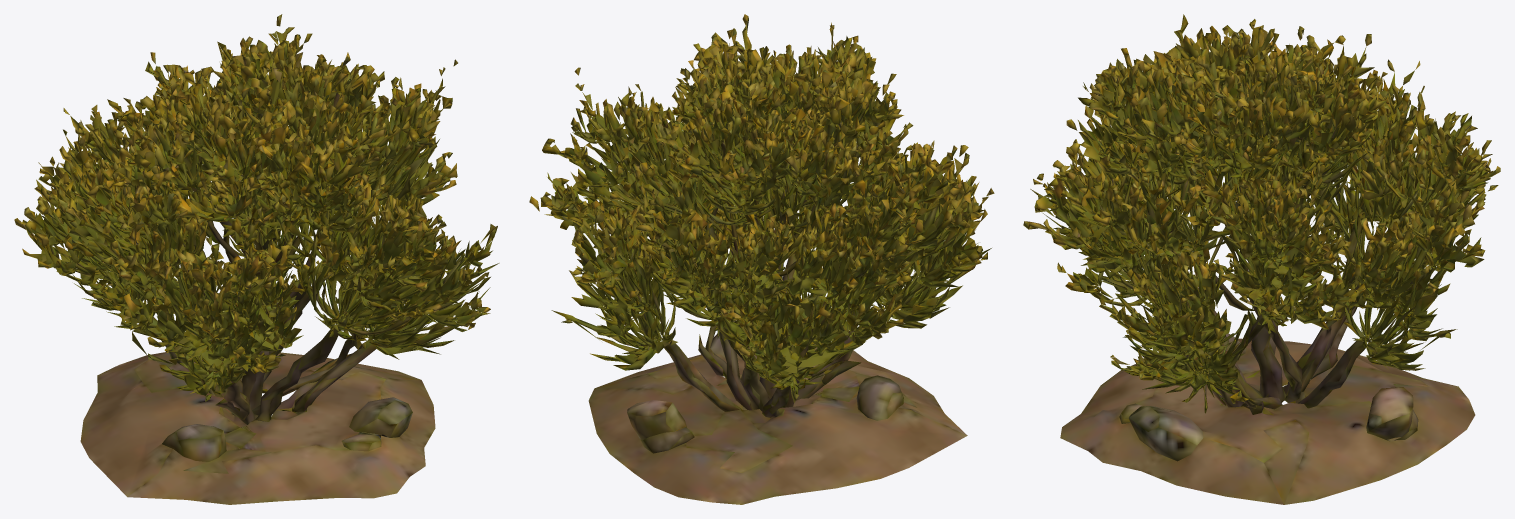
The model's file is nature_shrub_broom.glb.
3 renders of one model, left to right at view 1: azimuth 30°, elevation 25°; view 2: azimuth 150°, elevation 25°; view 3: azimuth 270°, elevation 25°, orthographic. The views are drawn at different scales.
Parts seen in each view (by area): view 1: world; view 2: world; view 3: world.
Part boxes in pixels (x1,y1,x2,y2): world: [14, 14, 499, 504]; world: [529, 14, 994, 504]; world: [1023, 14, 1500, 504].
Size of the model in its own units: 1.64 by 1.5 by 1.65.
Materials: 1 (1 with a texture image).
